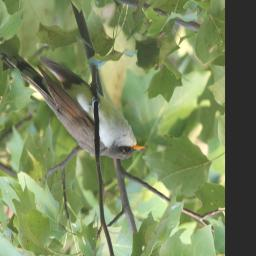Cuckoo: (0, 51, 145, 164)
